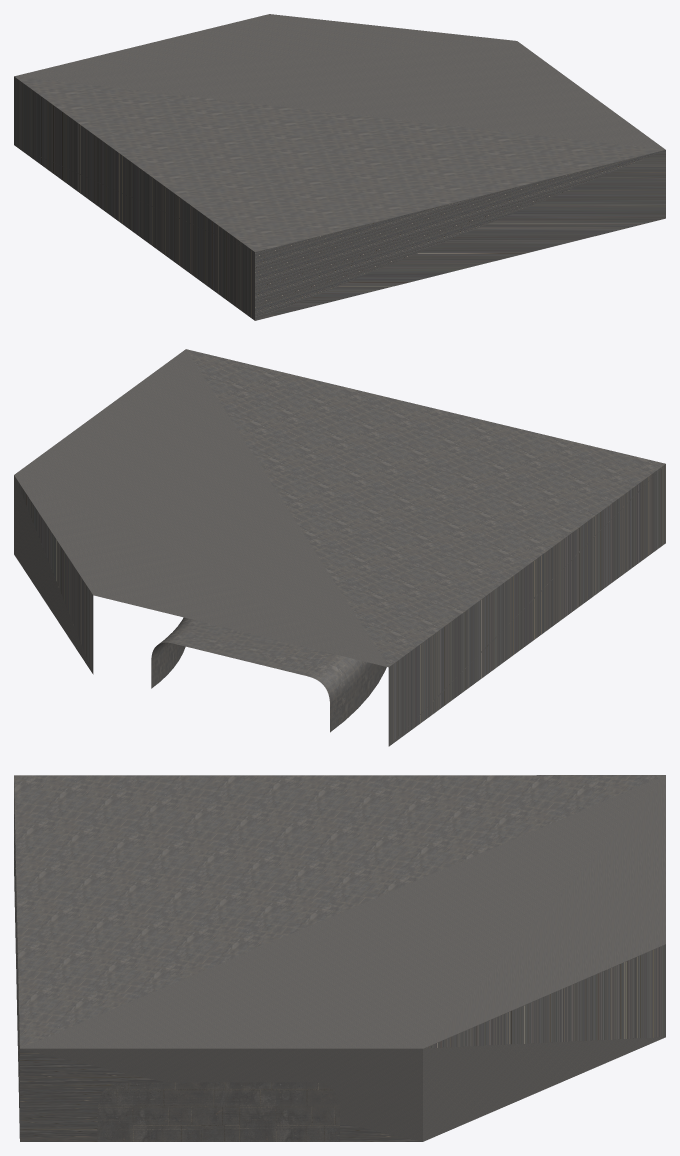
File: SM_BackWallTunnel.FBX
3 renders of one model, top to bottom at view 1: azimuth 30°, elevation 25°; view 2: azimuth 150°, elevation 25°; view 3: azimuth 270°, elevation 25°, orthographic. The views are drawn at different scales.
Visible parts, largest first — view 1: SM_BackWallTunnel; view 2: SM_BackWallTunnel; view 3: SM_BackWallTunnel.
Boxes of the visible parts, x1,y1,x2,y2 form: SM_BackWallTunnel: (14,14,665,320); SM_BackWallTunnel: (14,349,665,746); SM_BackWallTunnel: (14,775,665,1141).
Bounding box in the file's own units: 6445 × 6489 × 1023.
